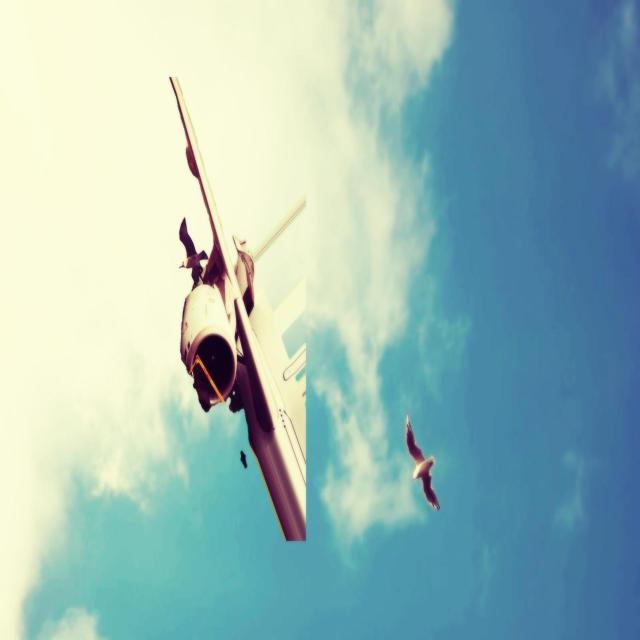airplane: (168, 74, 308, 542)
